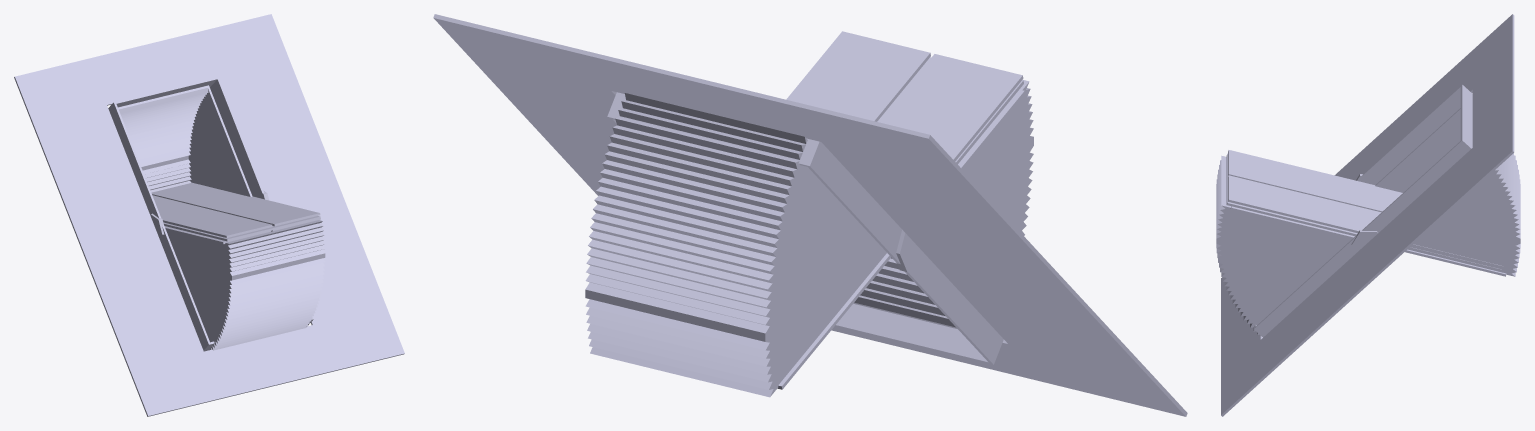
File: RoofDock_-15deg.glb
3 views of the same model, side by side, from view 1: azimuth 30°, elevation 25°; view 2: azimuth 150°, elevation 25°; view 3: azimuth 270°, elevation 25° (orthographic). The views are drawn at different scales.
Parts seen in each view (by area): view 1: copy_Body021, copy_Body023, copy_Body022, copy_LinkGroup004, copy_Body, copy_LinkGroup003; view 2: copy_Body022, copy_Body021, copy_LinkGroup004, copy_Body, copy_Body023, copy_LinkGroup003, copy_Body002; view 3: copy_Body021, copy_Body023, copy_Body022, copy_LinkGroup004, copy_Body, copy_LinkGroup003, copy_Body001.
Boxes of the visible parts, <box> form: copy_Body021: <box>14,14,404,416</box>; copy_Body023: <box>166,220,325,350</box>; copy_Body022: <box>118,85,252,196</box>; copy_LinkGroup004: <box>151,182,320,241</box>; copy_Body: <box>108,77,313,351</box>; copy_LinkGroup003: <box>164,219,320,244</box>; copy_Body022: <box>585,93,886,397</box>; copy_Body021: <box>433,14,1187,416</box>; copy_LinkGroup004: <box>786,31,1023,164</box>; copy_Body: <box>607,92,1003,364</box>; copy_Body023: <box>853,57,1033,328</box>; copy_LinkGroup003: <box>777,89,1024,389</box>; copy_Body002: <box>896,229,924,271</box>; copy_Body021: <box>1221,14,1514,416</box>; copy_Body023: <box>1216,155,1351,335</box>; copy_Body022: <box>1375,108,1520,276</box>; copy_LinkGroup004: <box>1226,150,1503,271</box>; copy_Body: <box>1254,84,1472,337</box>; copy_LinkGroup003: <box>1230,206,1506,276</box>; copy_Body001: <box>1351,230,1377,252</box>.
Bounding box in the file's own units: 1.68 × 1.52 × 1.57.
